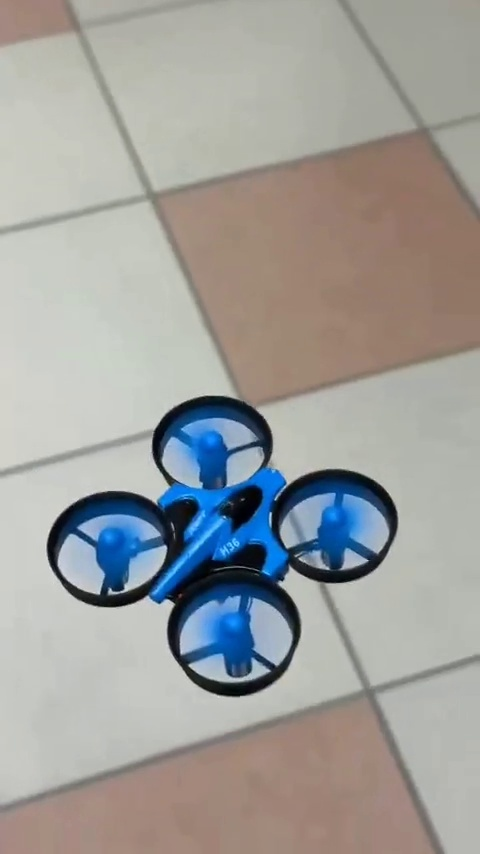drone: (42, 393, 403, 697)
